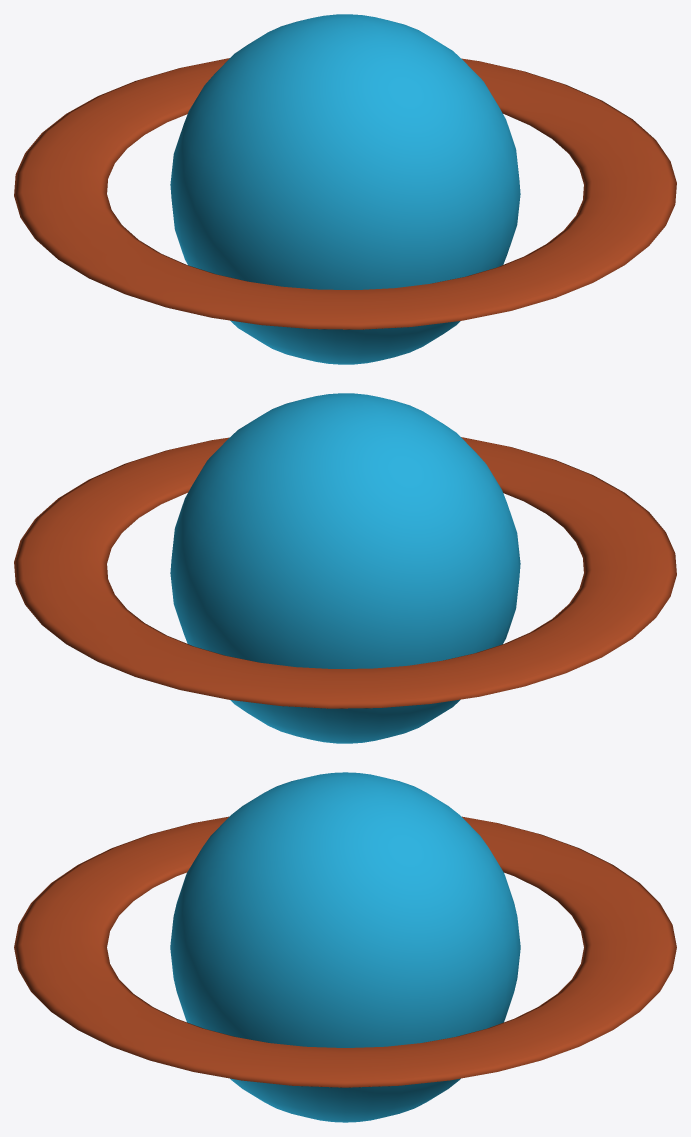
File: PanetZ.fbx
3 views of the same model, one above another, from view 1: azimuth 30°, elevation 25°; view 2: azimuth 150°, elevation 25°; view 3: azimuth 270°, elevation 25° (orthographic).
Visible parts, largest first — view 1: Sphere, BezierCircle; view 2: Sphere, BezierCircle; view 3: Sphere, BezierCircle.
Part boxes in pixels (box(x1,y1,x2,y2)): Sphere: box(170, 14, 520, 364); BezierCircle: box(14, 58, 676, 329); Sphere: box(170, 393, 520, 743); BezierCircle: box(14, 437, 676, 708); Sphere: box(170, 772, 520, 1122); BezierCircle: box(14, 816, 676, 1087).
Size of the model in its own units: 953 by 504 by 953.
